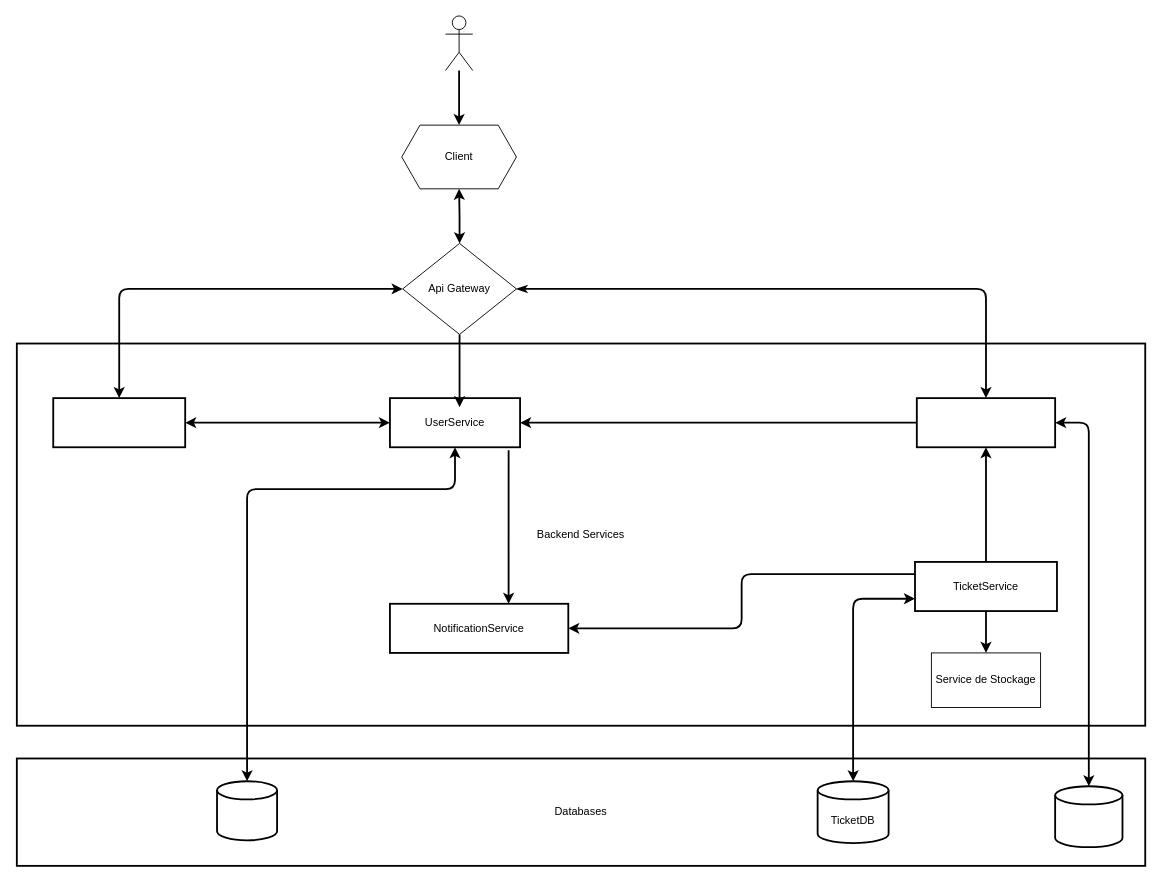
This 1161x883 diagram has some shape labels left out. The shapes that lost their labels are listed below. From the top down, each one's centre as x and y in pixels, then its label:
At [459,43]: "Actor".
At [119,422]: "AuthService".
At [985,422]: "EventService".
At [247,810]: "UserDB".
At [1088,816]: "EventDB".
